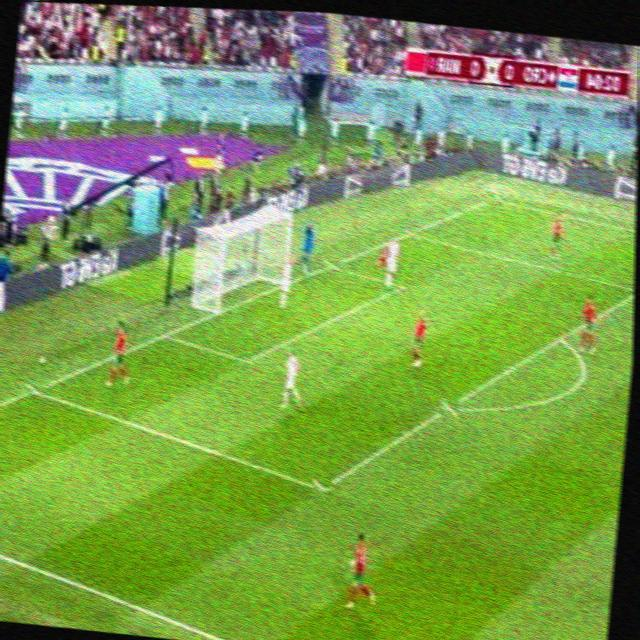bigarea_bottom_inner: (311, 473, 334, 501)
bigarea_bottom_outter: (24, 379, 44, 402)
bigarea_top_inner: (629, 278, 635, 300)
bigarea_top_outter: (404, 223, 418, 241)
bottom_arc_area_intersection: (439, 395, 459, 418)
corner: (485, 191, 503, 207)
smallarea_bottom_inner: (236, 344, 259, 373)
smallarea_bottom_outter: (156, 324, 175, 345)
smallarea_top_inner: (395, 273, 413, 296)
smallarea_top_outter: (323, 255, 341, 274)
top_arc_area_intersection: (553, 327, 571, 348)
